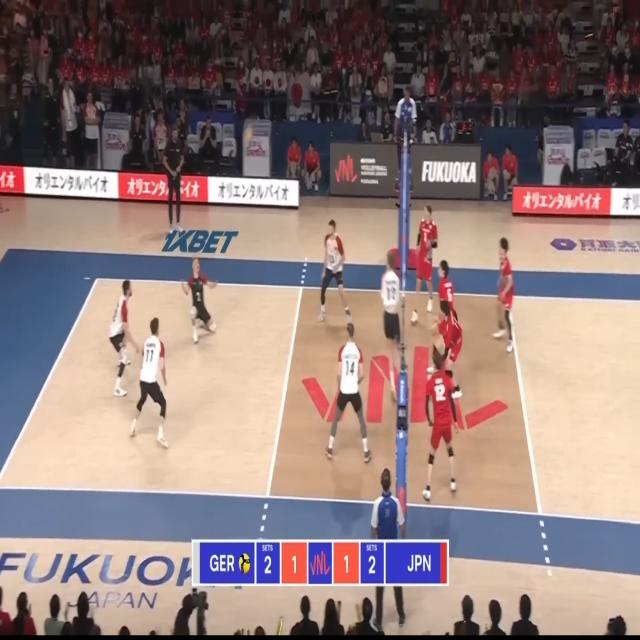ball: (246, 127, 252, 140)
